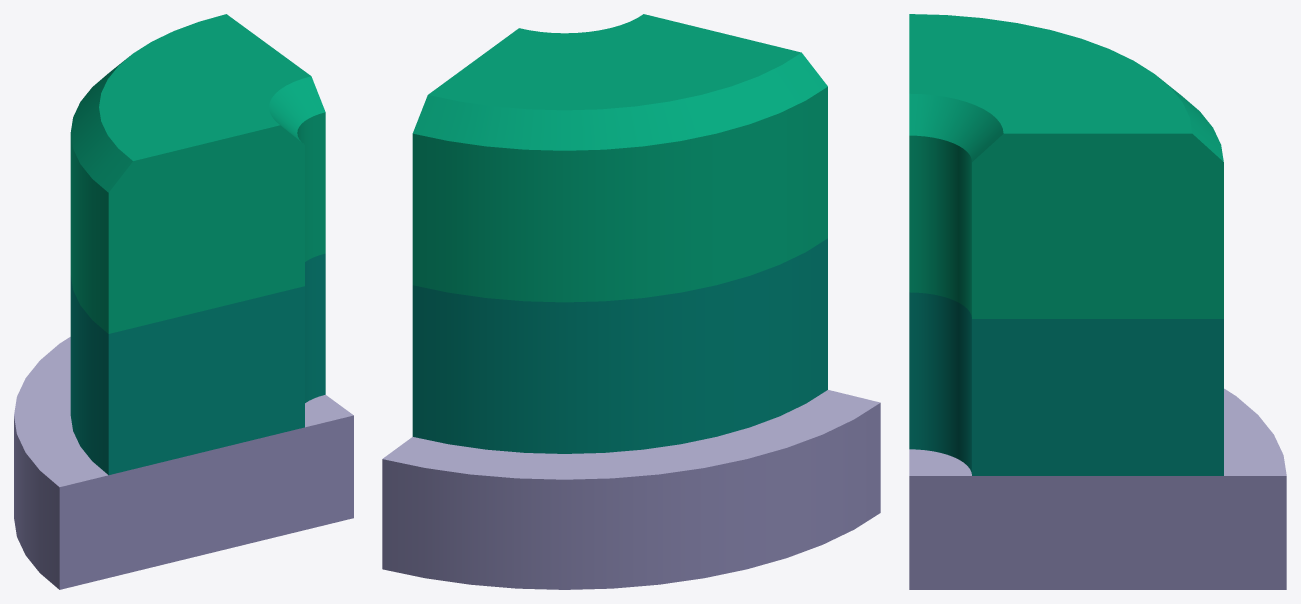
The model's file is BarriereVegeTournantCourt.fbx.
3 views of the same model, side by side, from view 1: azimuth 30°, elevation 25°; view 2: azimuth 150°, elevation 25°; view 3: azimuth 270°, elevation 25° (orthographic). The views are drawn at different scales.
Parts seen in each view (by area): view 1: mergedBlocks; view 2: mergedBlocks; view 3: mergedBlocks.
Boxes of the visible parts, x1=… form: mergedBlocks: x1=14, y1=14, x2=353, y2=589; mergedBlocks: x1=382, y1=14, x2=880, y2=589; mergedBlocks: x1=909, y1=14, x2=1286, y2=589.
Bounding box in the file's own units: 3 × 4 × 3.
